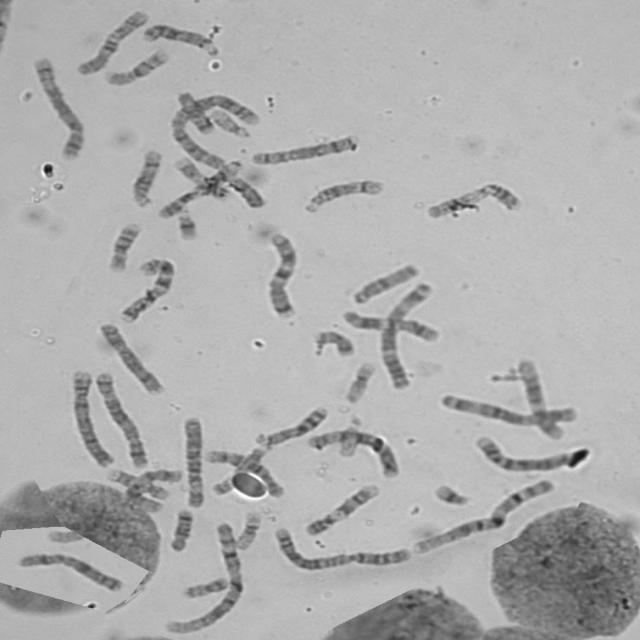A1: (405, 474, 558, 556), (157, 516, 245, 636)
A2: (167, 87, 261, 173), (266, 522, 414, 572)
A3: (373, 276, 437, 391), (433, 388, 580, 427)
B4: (64, 364, 118, 468), (468, 429, 588, 474)
B5: (27, 51, 86, 161), (88, 366, 150, 470)
C10: (69, 5, 151, 76), (200, 445, 286, 499)
C11: (418, 177, 525, 220), (335, 304, 443, 344)
C12: (511, 352, 566, 442), (121, 465, 192, 515)
C6: (304, 427, 408, 482), (176, 411, 206, 509)
C7: (112, 252, 178, 324), (259, 228, 301, 320)
C8: (93, 317, 166, 396), (244, 129, 361, 166)
C9: (152, 156, 243, 220), (298, 478, 384, 537)
D13: (249, 400, 330, 448), (136, 18, 222, 57)
D14: (298, 174, 386, 214), (125, 145, 163, 209)
D15: (345, 258, 422, 306), (208, 442, 273, 497)
E16: (98, 44, 172, 86), (101, 217, 143, 273)
E17: (168, 152, 230, 200), (100, 464, 172, 502)
E18: (170, 86, 217, 136), (162, 504, 195, 553)
F19: (337, 356, 379, 404), (229, 507, 264, 551)
F20: (177, 572, 230, 600), (312, 328, 355, 362)
G21: (427, 479, 472, 507), (170, 204, 200, 242)
G22: (204, 105, 253, 138), (333, 412, 364, 458)
X: (12, 547, 126, 594)
Y: (221, 172, 268, 209)
